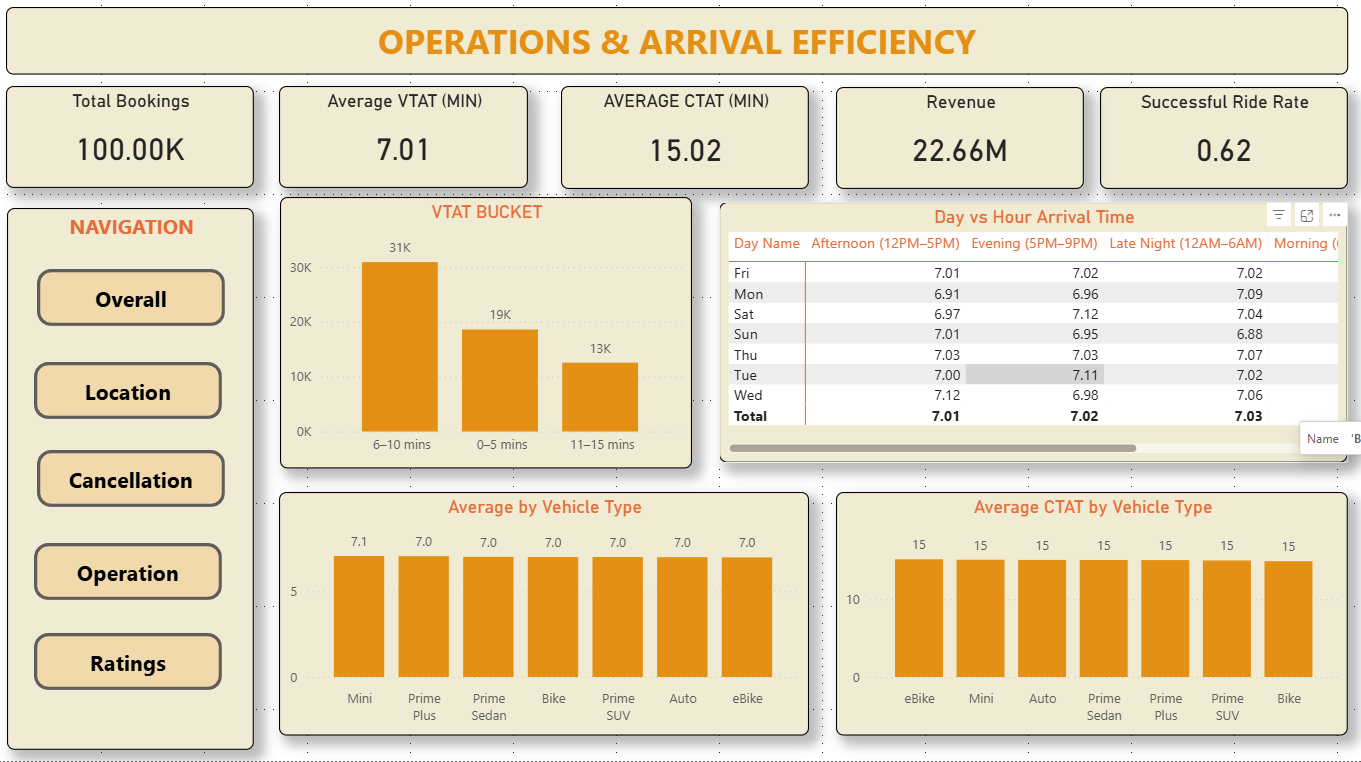

The dashboard page shown, as its layout file describes it:
{"tool":"powerbi","page":{"name":"OPERATIONS & ARRIVAL EFFICIENCY","canvas":[1280,720],"ordinal":3},"visuals":[{"type":"card","title":"Total Bookings","fields":{"Values":["Count(Bangalore_Ride_Bookings.Booking ID)"]},"box":[7.5,91.3,231.1,95.1],"z":0},{"type":"card","title":"AVERAGE CTAT (MIN)","fields":{"Values":["Avg(Bangalore_Ride_Bookings.Avg CTAT)"]},"box":[524.7,91.3,231.1,96],"z":1000},{"type":"card","title":"Average  VTAT (MIN)","fields":{"Values":["Avg(Bangalore_Ride_Bookings.Avg VTAT)"]},"box":[261.9,91.3,232.1,95.1],"z":2000},{"type":"textbox","box":[7.5,17.7,1250.8,63.4],"z":3000},{"type":"textbox","title":"NAVIGATION","box":[8.4,205,230.2,505.2],"z":4000},{"type":"columnChart","title":"VTAT BUCKET","fields":{"Category":["Bangalore_Ride_Bookings.VTAT Bucket"],"Y":["Bangalore_Ride_Bookings.Successful Rides"]},"box":[262.8,194.8,384,252.6],"z":5000},{"type":"columnChart","title":"Average by Vehicle Type","fields":{"Y":["Avg(Bangalore_Ride_Bookings.Avg VTAT)"],"Category":["Bangalore_Ride_Bookings.Vehicle Type"]},"box":[261.9,469.7,494,227.4],"z":6000},{"type":"columnChart","title":"Average CTAT by Vehicle Type","fields":{"Y":["Avg(Bangalore_Ride_Bookings.Avg CTAT)"],"Category":["Bangalore_Ride_Bookings.Vehicle Type"]},"box":[781,469.7,477.2,227.4],"z":7000},{"type":"card","title":"Successful Ride Rate","fields":{"Values":["Bangalore_Ride_Bookings.Success Rate %"]},"box":[1027.1,92.3,231.1,95.1],"z":8000},{"type":"card","title":"Revenue","fields":{"Values":["Sum(Bangalore_Ride_Bookings.Booking Value)"]},"box":[781,92.3,231.1,95.1],"z":9000},{"type":"pivotTable","title":"Day vs Hour Arrival Time","fields":{"Values":["Avg(Bangalore_Ride_Bookings.Avg VTAT)"],"Rows":["Bangalore_Ride_Bookings.Day Name"],"Columns":["Bangalore_Ride_Bookings.Time Bucket"]},"box":[672,199.5,586.3,243.3],"z":10000},{"type":"actionButton","box":[33.6,348.6,175.2,53.1],"z":10001},{"type":"actionButton","box":[36.3,430.6,175.2,53.1],"z":10002},{"type":"actionButton","box":[33.6,517.3,175.2,53.1],"z":10003},{"type":"actionButton","box":[33.6,601.2,175.2,53.1],"z":10004},{"type":"actionButton","box":[36.3,261.9,175.2,53.1],"z":10005}]}

Visuals, with their boxes in screenshot pixels (x1, y1, x2, y2), scaled from the page's 1280x720 canvas onto the 1361x762 screenshot:
"Total Bookings" card: l=8, t=97, r=254, b=197
"AVERAGE CTAT (MIN)" card: l=558, t=97, r=804, b=198
"Average  VTAT (MIN)" card: l=278, t=97, r=525, b=197
textbox: l=8, t=19, r=1338, b=86
"NAVIGATION" textbox: l=9, t=217, r=254, b=752
"VTAT BUCKET" columnChart: l=279, t=206, r=688, b=473
"Average by Vehicle Type" columnChart: l=278, t=497, r=804, b=738
"Average CTAT by Vehicle Type" columnChart: l=830, t=497, r=1338, b=738
"Successful Ride Rate" card: l=1092, t=98, r=1338, b=198
"Revenue" card: l=830, t=98, r=1076, b=198
"Day vs Hour Arrival Time" pivotTable: l=715, t=211, r=1338, b=469
actionButton: l=36, t=369, r=222, b=425
actionButton: l=39, t=456, r=225, b=512
actionButton: l=36, t=547, r=222, b=604
actionButton: l=36, t=636, r=222, b=692
actionButton: l=39, t=277, r=225, b=333
